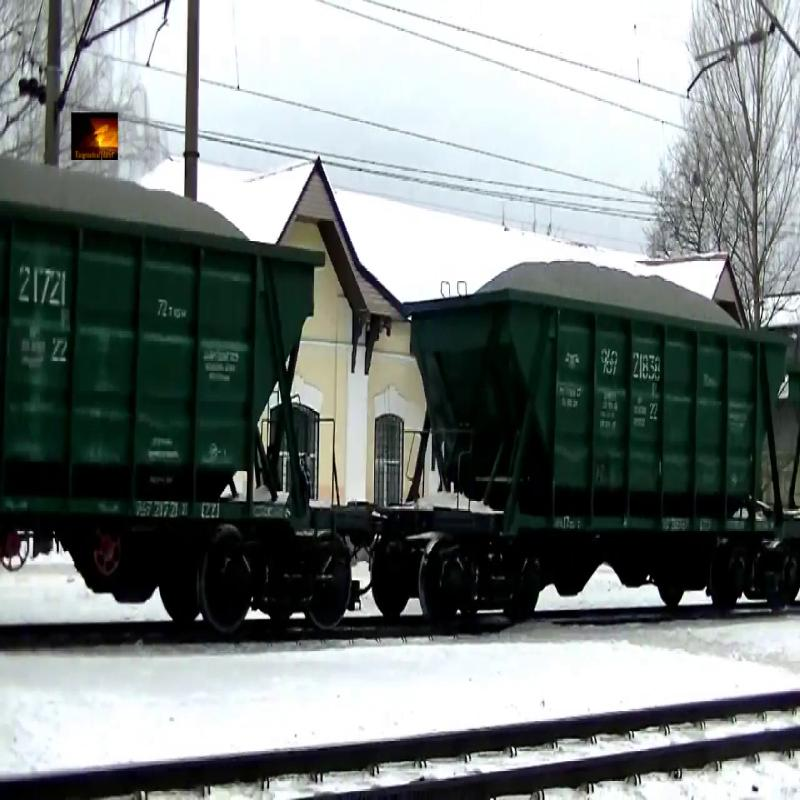train: (1, 163, 319, 622), (407, 255, 792, 619)
